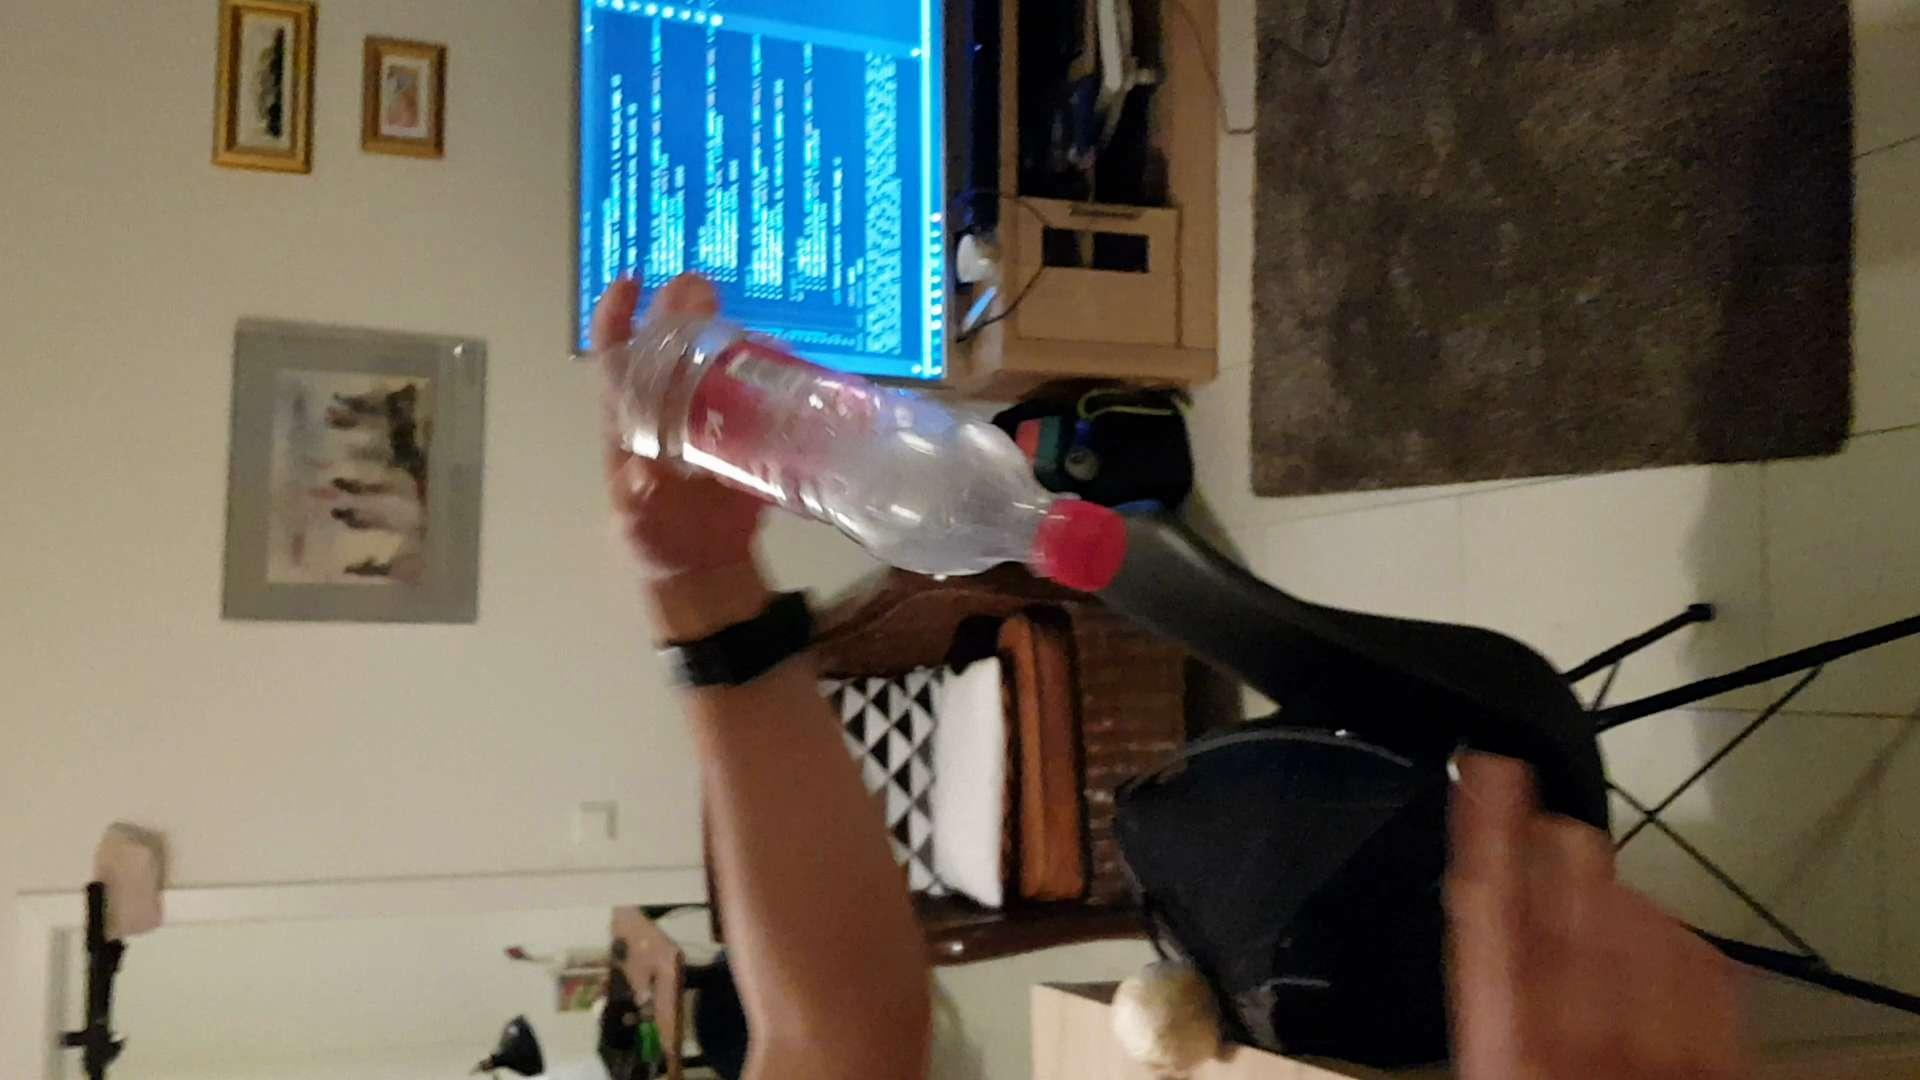Bottle: (618, 282, 1129, 599)
